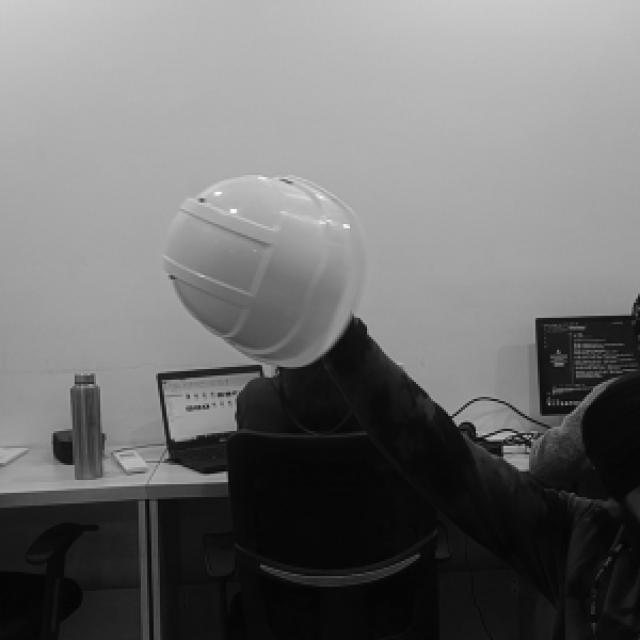safety_helmet: (163, 176, 368, 368)
